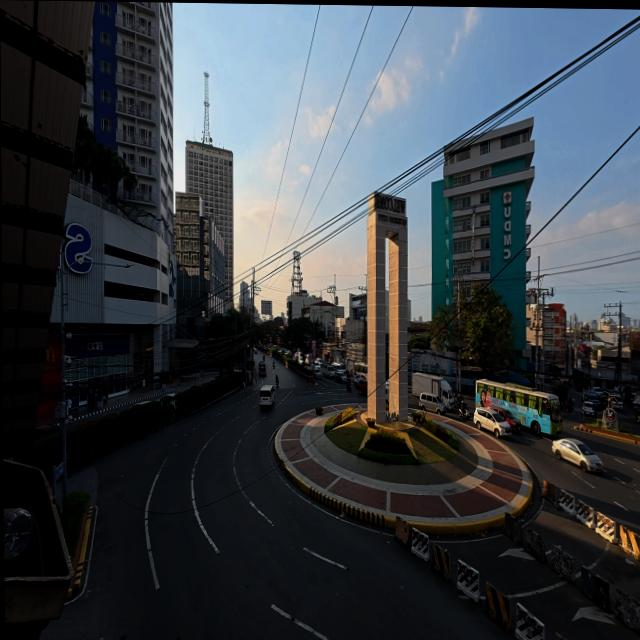bus: (475, 380, 561, 434), (353, 363, 366, 379)
car: (551, 438, 602, 472), (473, 408, 510, 437), (495, 408, 520, 433), (583, 391, 605, 410), (35, 424, 62, 439), (160, 392, 176, 410), (582, 401, 595, 417), (129, 400, 150, 409), (591, 387, 604, 400), (354, 373, 366, 387), (355, 380, 366, 394), (335, 372, 346, 383), (313, 364, 321, 379), (385, 380, 388, 401), (254, 348, 257, 354)
motorcycle: (457, 405, 469, 420), (346, 379, 350, 391), (275, 375, 277, 388), (273, 361, 275, 369)
trucks: (411, 373, 454, 409)
vans: (419, 393, 445, 415), (259, 385, 273, 408), (608, 395, 622, 410), (321, 363, 335, 378)
